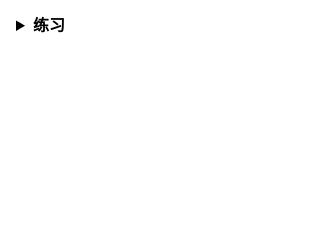
lets the learner open a closed practice block by toggling details
Click the heading "练习" at (49, 26), box [33,17,65,34]
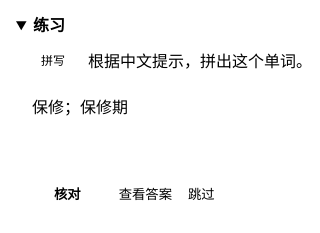
Result: the text "查看答案" is shown at [119,170,172,216]
